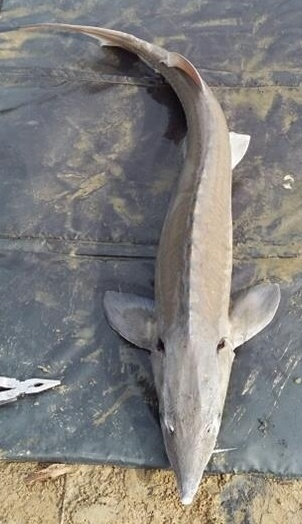Acipenseridae: (20, 20, 282, 504)
